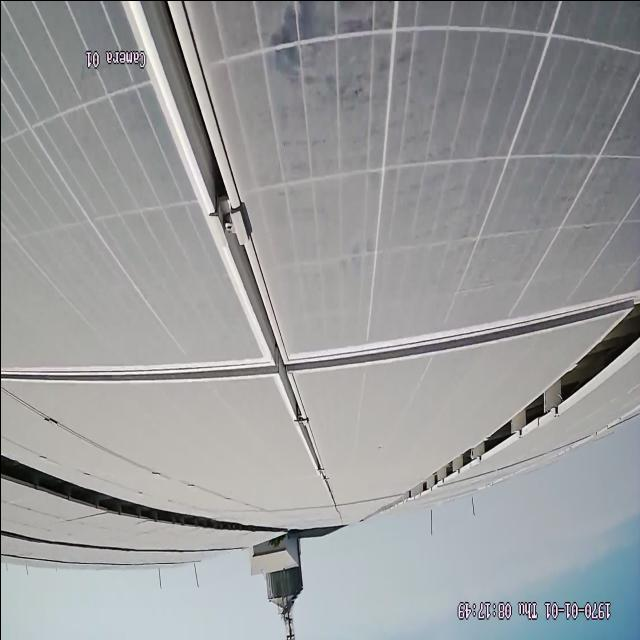interior panel: (132, 10, 331, 491), (10, 290, 617, 389)
outher panel: (410, 315, 629, 492), (0, 452, 236, 533)
